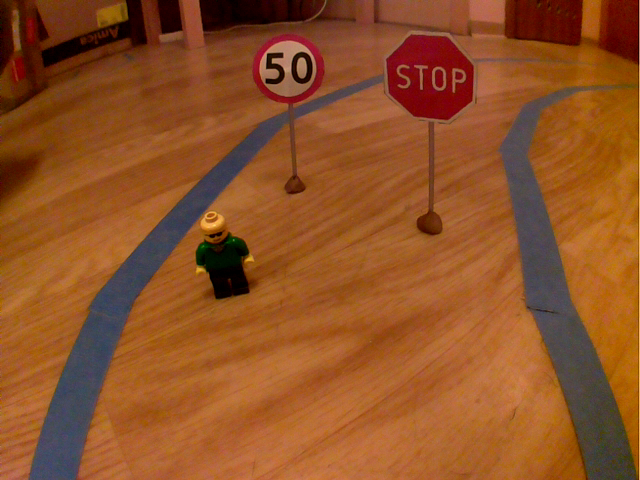Ograniczenie 50: (249, 29, 330, 109)
Postac LEGO: (187, 207, 259, 305)
Stop: (379, 24, 485, 130)
